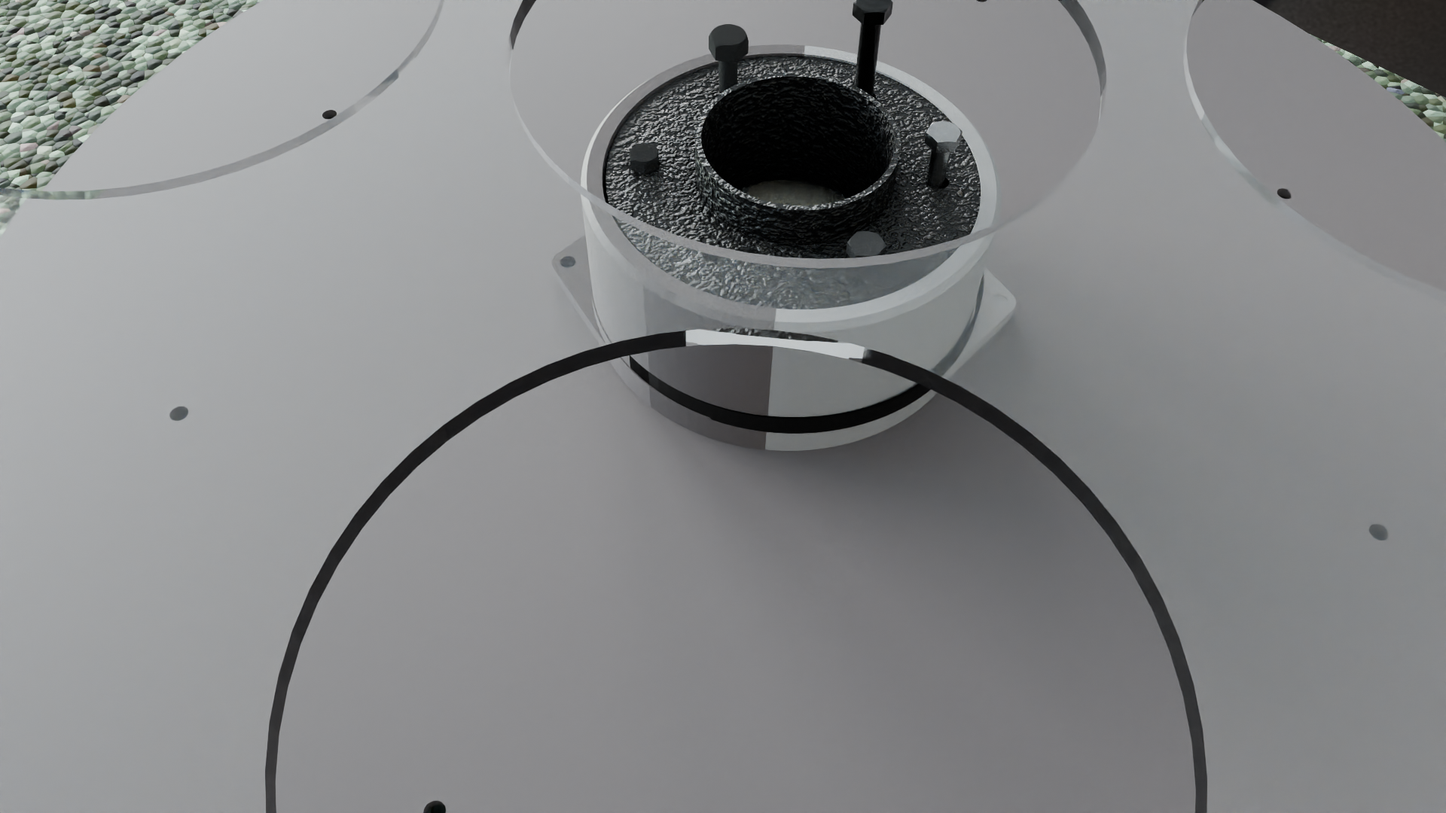bolt: (709, 24, 749, 50), (847, 231, 886, 257), (926, 121, 962, 142), (630, 143, 658, 166), (853, 0, 892, 14)
